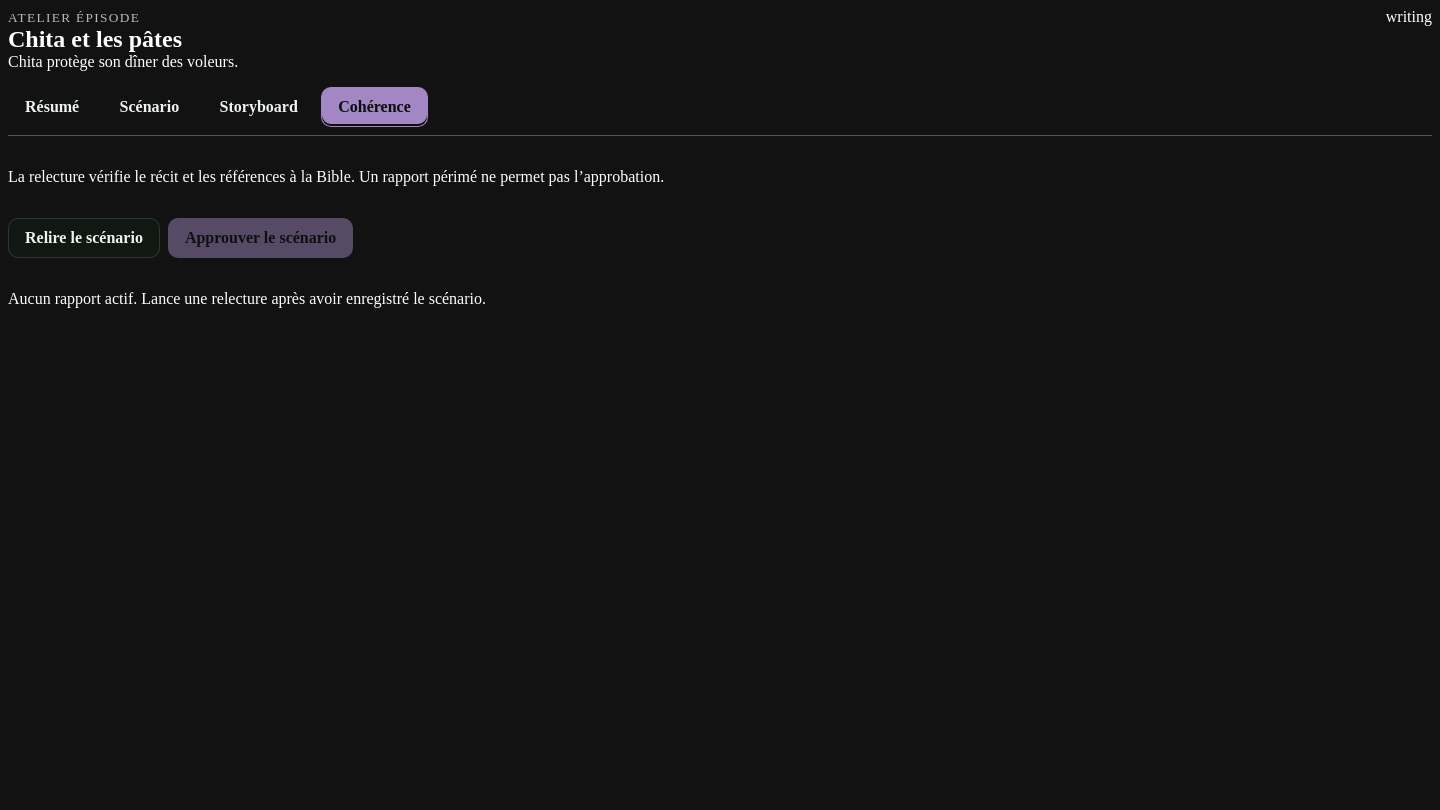
Test case: EpisodeAuthoring › prevents approval after an unsaved edit invalidates the coherence report
Click the button "Relire le scénario": (84, 238) [8,218,160,258]
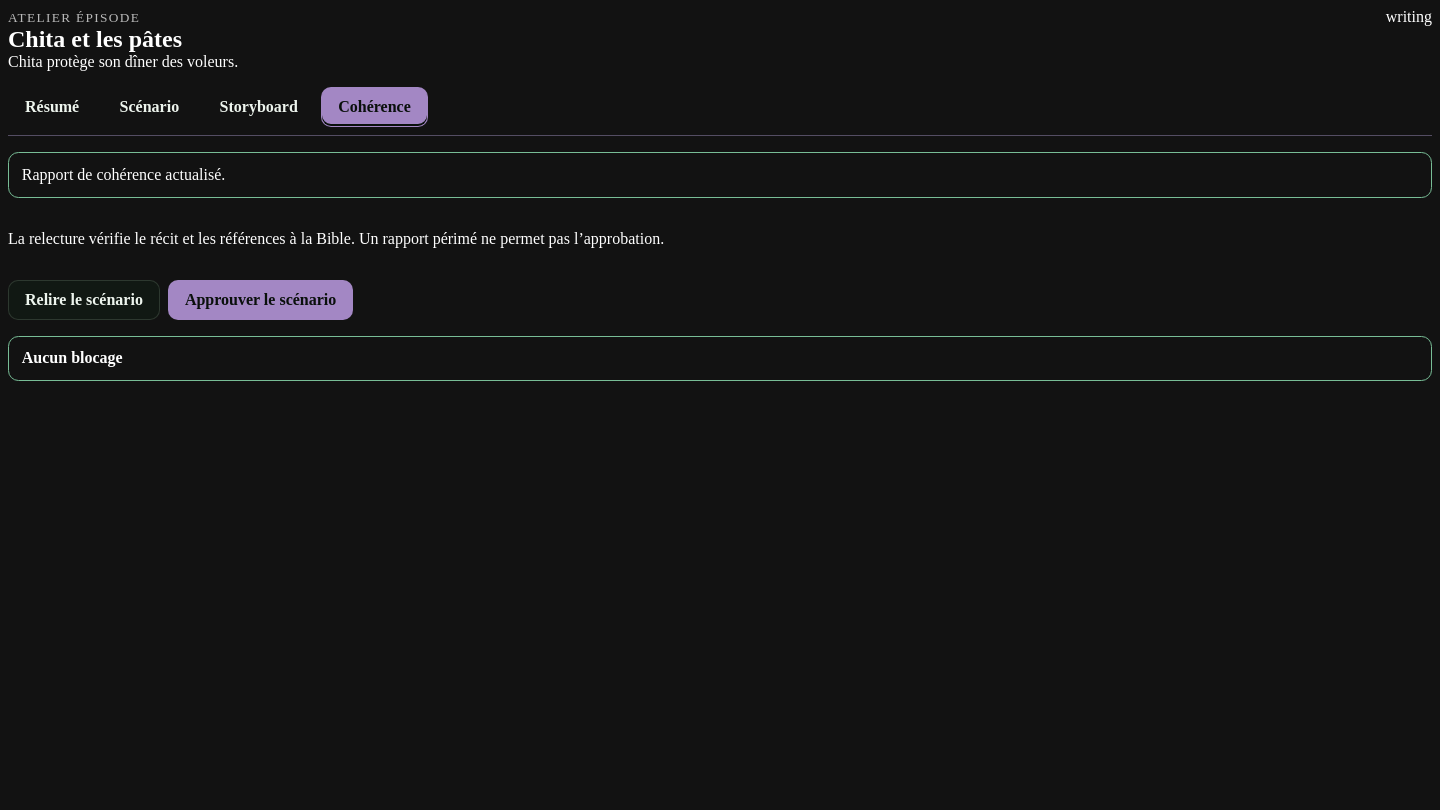
Expected: the text "Aucun blocage" is shown, [22,349,123,366]
Click the tab "Scénario": (149, 107) [103,87,196,127]
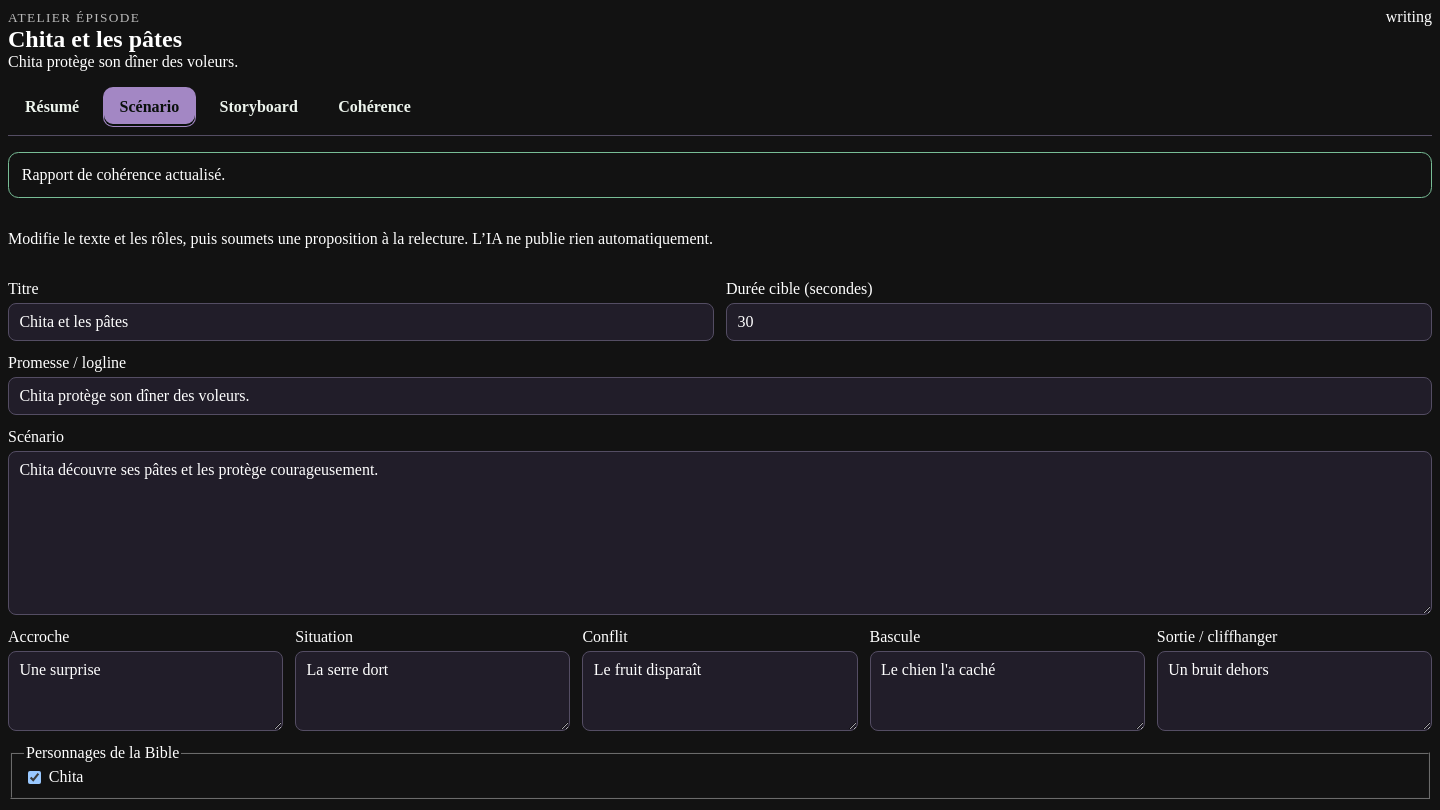
Replace the text in the field labelled "Promesse / logline" with "Une nouvelle promesse narrative.": (720, 396) [8,377,1432,415]
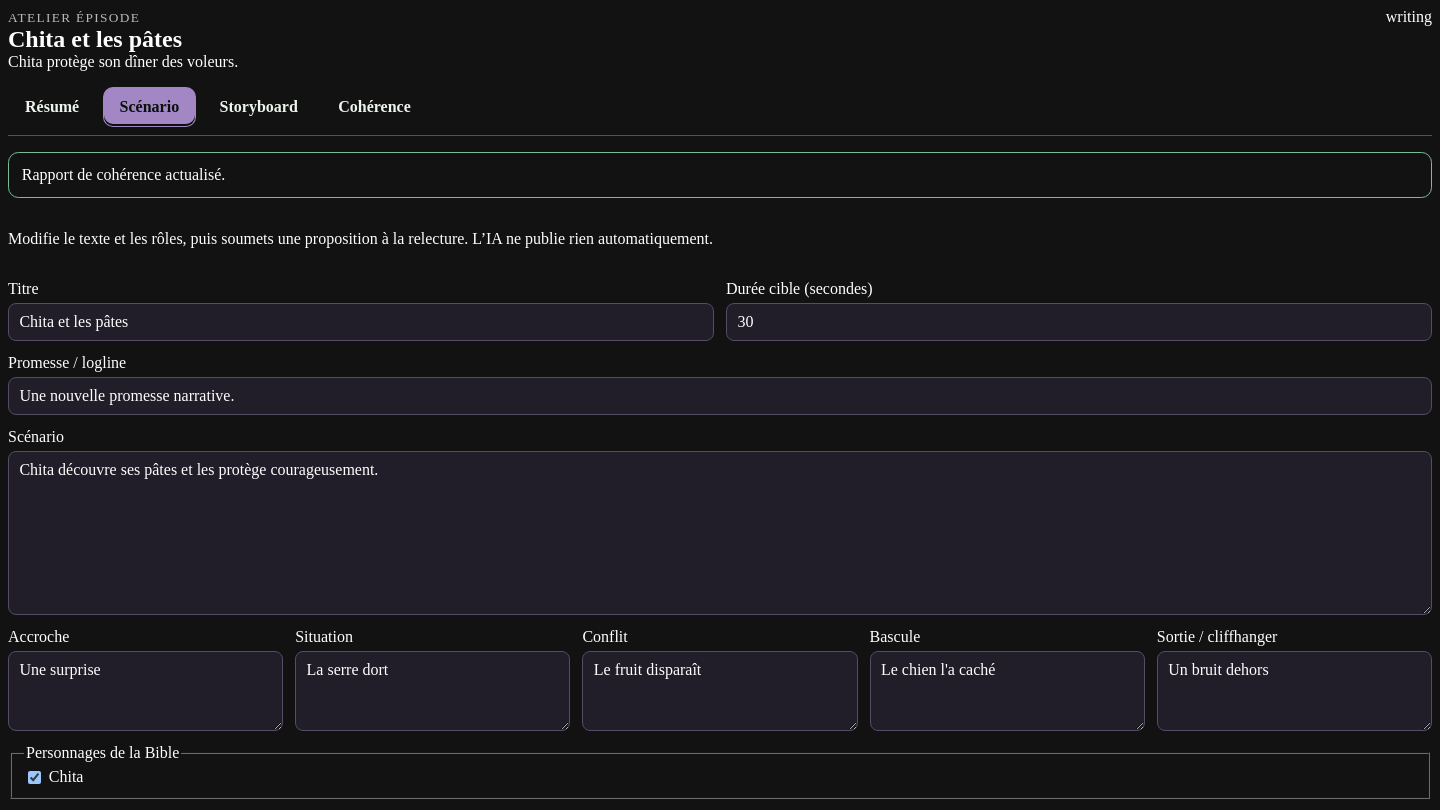
Click the tab "Cohérence": (374, 107) [321,87,428,127]
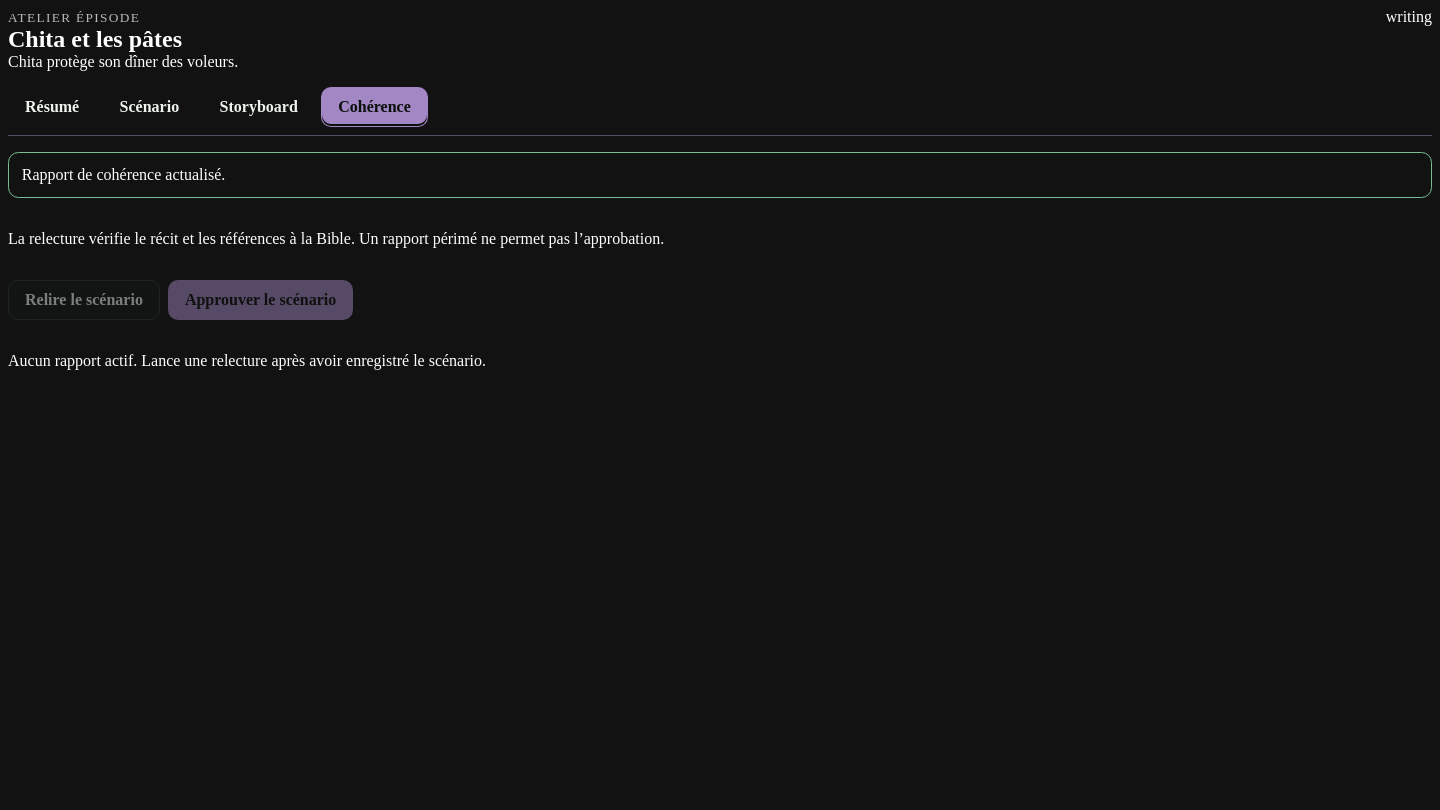
Expected: the text "Aucun blocage" is not shown
Expected: the button "Approuver le scénario" is disabled, [168,280,353,320]
